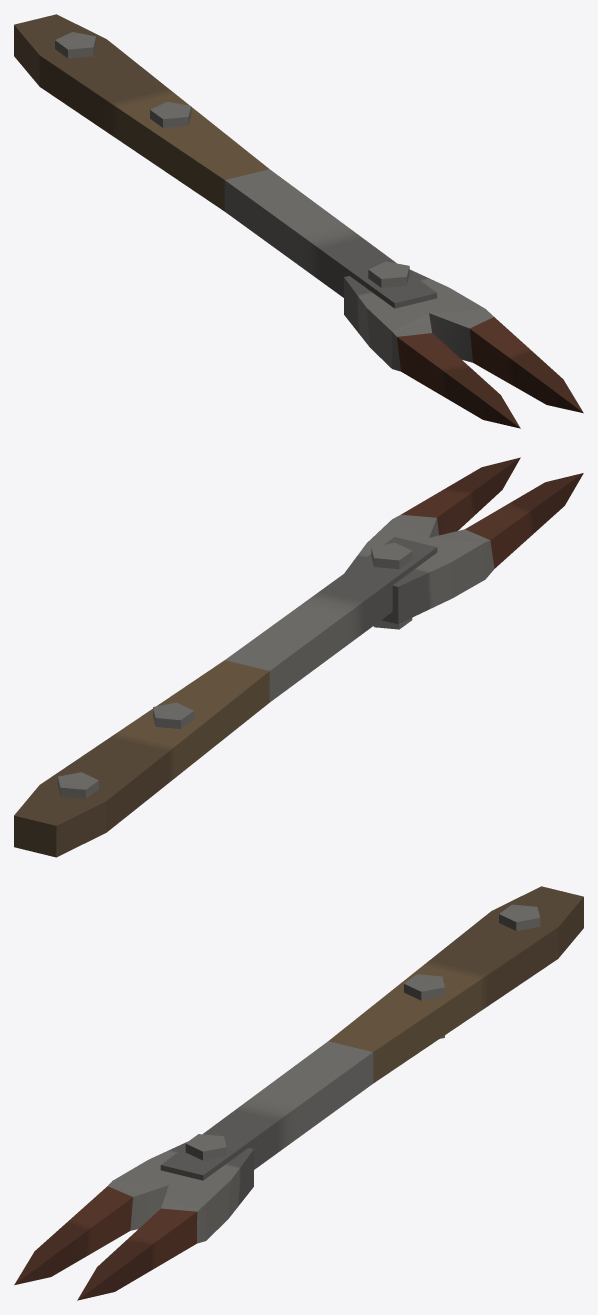
File: SM_Prop_Fork_01.fbx
The picture shows the model from 3 angles, top to bottom: view 1: azimuth 30°, elevation 25°; view 2: azimuth 150°, elevation 25°; view 3: azimuth 330°, elevation 25°; orthographic projection.
Parts seen in each view (by area): view 1: SM_Prop_Fork_01; view 2: SM_Prop_Fork_01; view 3: SM_Prop_Fork_01.
Boxes of the visible parts, left/top/right/bottom form: SM_Prop_Fork_01: left=14, top=14, right=583, bottom=428; SM_Prop_Fork_01: left=14, top=457, right=583, bottom=857; SM_Prop_Fork_01: left=14, top=886, right=583, bottom=1300.
Size of the model in its own units: 7.3 by 5.16 by 69.98.
